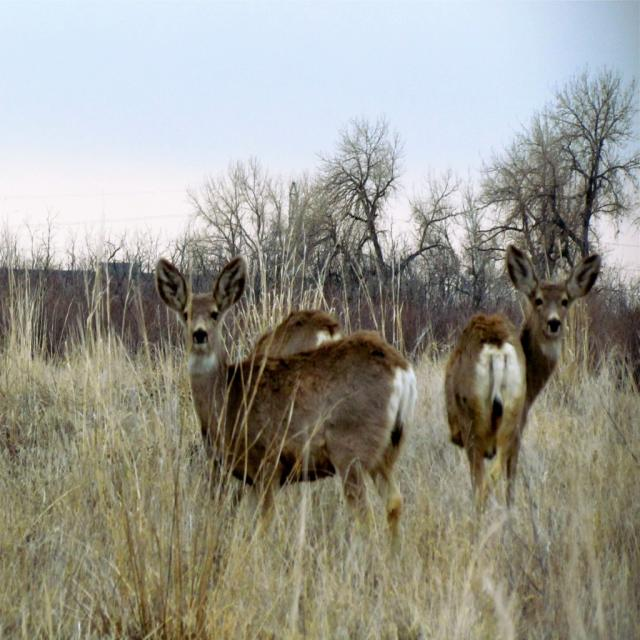Deer: (158, 253, 419, 622), (444, 249, 604, 530), (244, 306, 340, 356)
